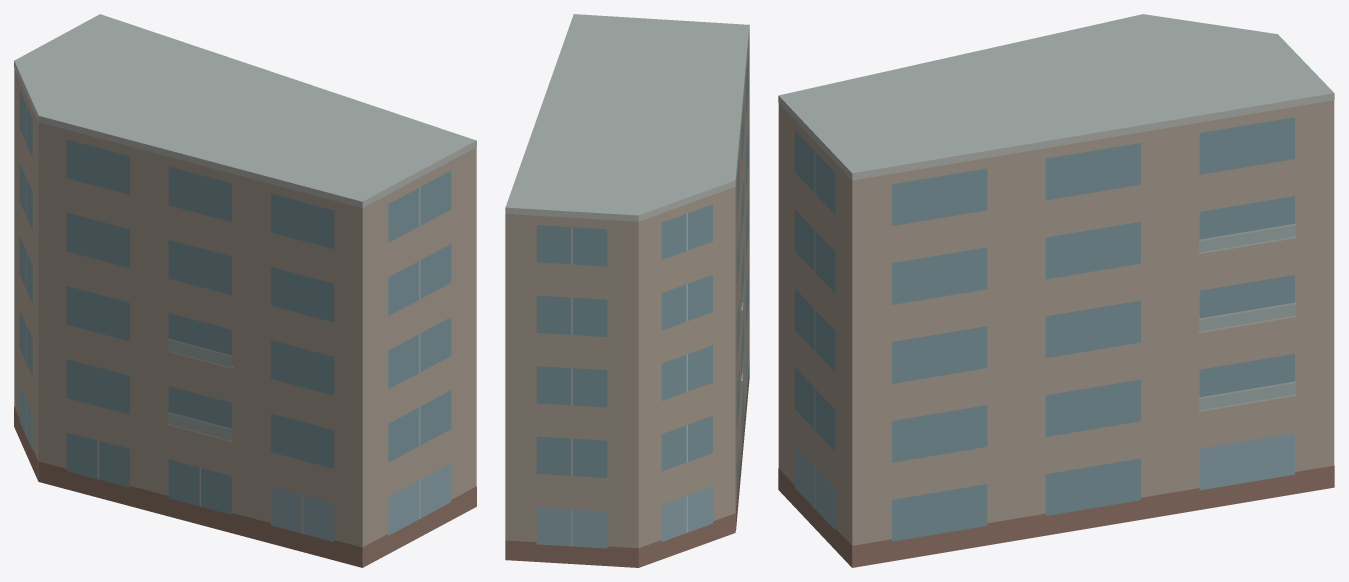
The model's file is survey-upis-32886196.glb.
The picture shows the model from 3 angles, left to right: view 1: azimuth 30°, elevation 25°; view 2: azimuth 150°, elevation 25°; view 3: azimuth 270°, elevation 25°; orthographic projection. The views are drawn at different scales.
Parts seen in each view (by area): view 1: survey-upis-32886196.tmp; view 2: survey-upis-32886196.tmp; view 3: survey-upis-32886196.tmp.
Part boxes in pixels (box(x1,y1,x2,y2)): survey-upis-32886196.tmp: box(14, 14, 476, 567); survey-upis-32886196.tmp: box(505, 14, 749, 567); survey-upis-32886196.tmp: box(778, 14, 1334, 567).
Size of the model in its own units: 11.88 by 13.7 by 17.51.
